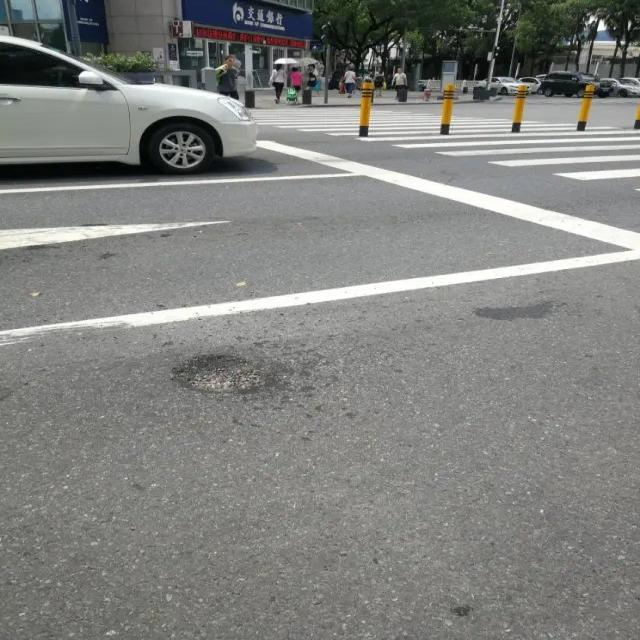Pothole: (167, 354, 276, 398)
